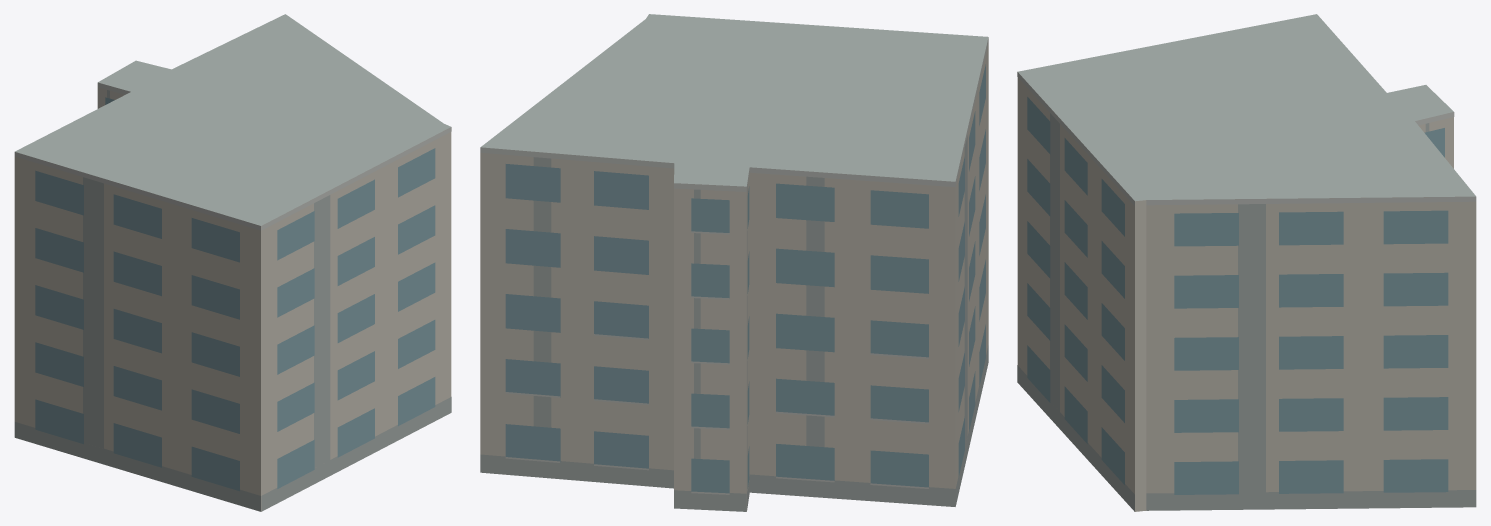
Rendered from survey-upis-32863100.glb.
3 views of the same model, side by side, from view 1: azimuth 30°, elevation 25°; view 2: azimuth 150°, elevation 25°; view 3: azimuth 270°, elevation 25° (orthographic). The views are drawn at different scales.
Visible parts, largest first — view 1: survey-upis-32863100.tmp; view 2: survey-upis-32863100.tmp; view 3: survey-upis-32863100.tmp.
Part boxes in pixels (x1=…): survey-upis-32863100.tmp: x1=14, y1=14, x2=451, y2=511; survey-upis-32863100.tmp: x1=480, y1=14, x2=988, y2=511; survey-upis-32863100.tmp: x1=1017, y1=14, x2=1476, y2=511.
Bounding box in the file's own units: 18.94 × 14.65 × 19.62.
